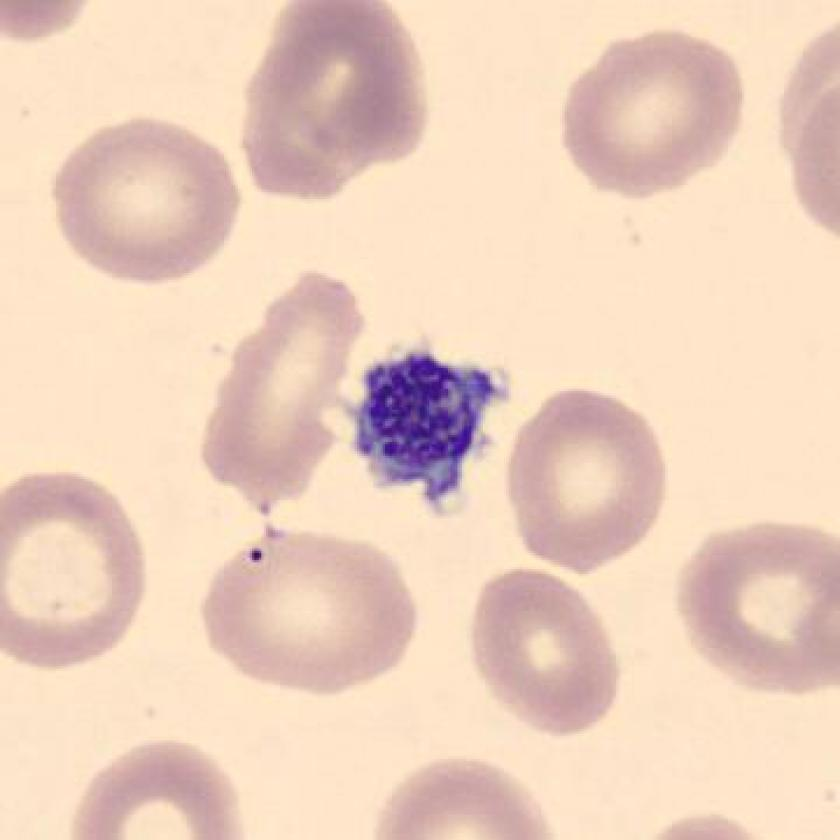platelets: (342, 342, 512, 520)
